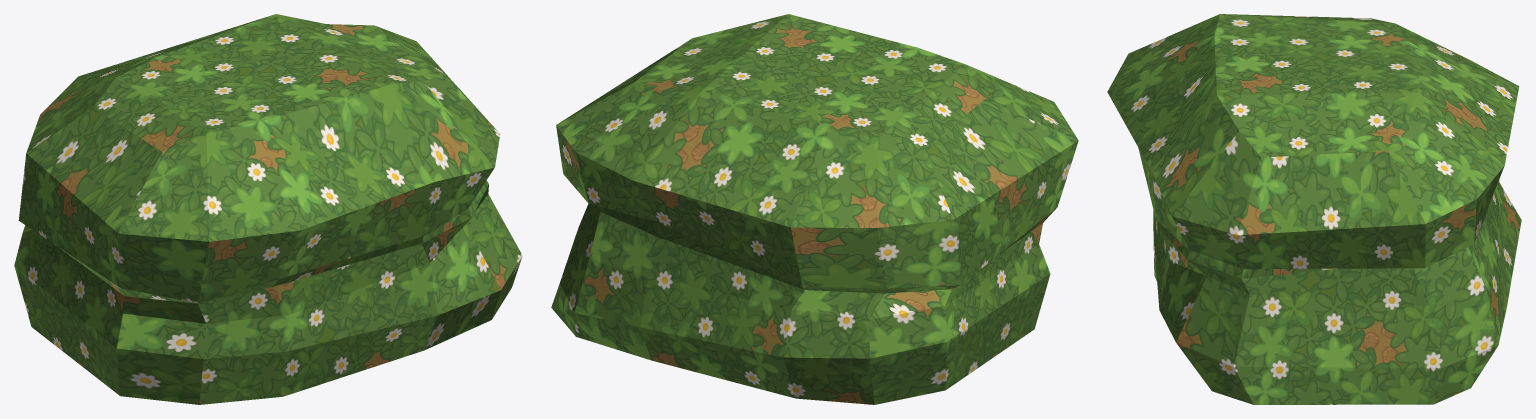
Rendered from arb4.obj.
3 views of the same model, side by side, from view 1: azimuth 30°, elevation 25°; view 2: azimuth 150°, elevation 25°; view 3: azimuth 270°, elevation 25° (orthographic). The views are drawn at different scales.
Parts seen in each view (by area): view 1: Bush:BushBerries_5:Mesh; view 2: Bush:BushBerries_5:Mesh; view 3: Bush:BushBerries_5:Mesh.
Part boxes in pixels (x1=…): Bush:BushBerries_5:Mesh: x1=14, y1=14, x2=522, y2=404; Bush:BushBerries_5:Mesh: x1=551, y1=14, x2=1078, y2=404; Bush:BushBerries_5:Mesh: x1=1107, y1=14, x2=1521, y2=404.
Size of the model in its own units: 1.27 by 0.7438 by 1.11.
1 material, 1 textured.
